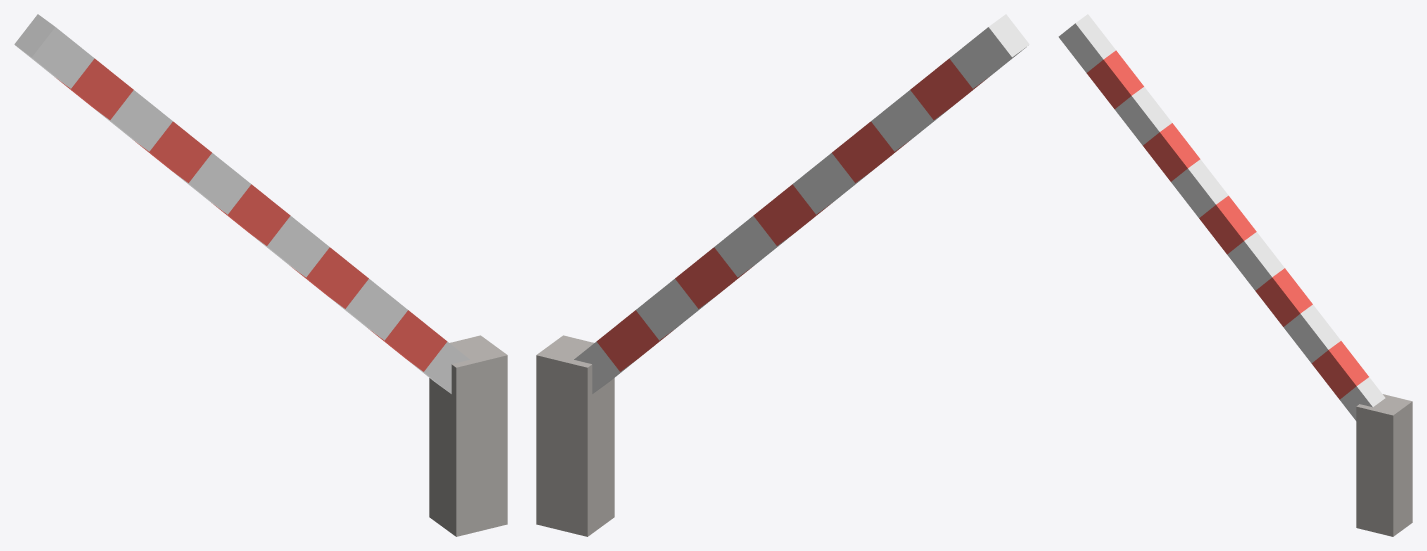
Rendered from shoufei_02.FBX.
The picture shows the model from 3 angles, left to right: view 1: azimuth 30°, elevation 25°; view 2: azimuth 150°, elevation 25°; view 3: azimuth 330°, elevation 25°; orthographic projection. The views are drawn at different scales.
Visible parts, largest first — view 1: shoufei_02; view 2: shoufei_02; view 3: shoufei_02.
Boxes of the visible parts, left/top/right/bottom form: shoufei_02: left=14, top=14, right=507, bottom=536; shoufei_02: left=536, top=14, right=1029, bottom=536; shoufei_02: left=1058, top=14, right=1412, bottom=536.
Size of the model in its own units: 599 by 733 by 59.64.
